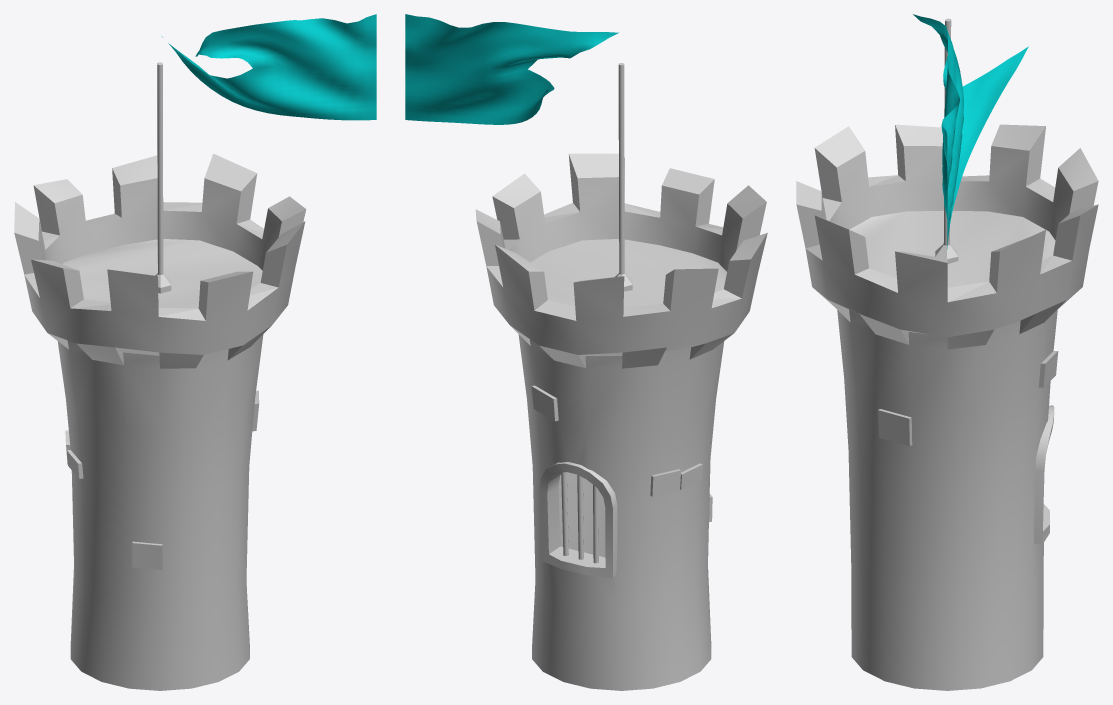
Rendered from Castle.FBX.
3 renders of one model, left to right at view 1: azimuth 30°, elevation 25°; view 2: azimuth 150°, elevation 25°; view 3: azimuth 270°, elevation 25°, orthographic. The views are drawn at different scales.
Visible parts, largest first — view 1: Castle_Main, Castle_Flag, Castle_FlagPole, Castle_Protruding_Bricks; view 2: Castle_Main, Castle_Flag, Castle_Window, Castle_Protruding_Bricks, Castle_FlagPole; view 3: Castle_Main, Castle_Flag, Castle_Window, Castle_Protruding_Bricks, Castle_FlagPole.
Boxes of the visible parts, box(x1,y1,x2,y2) form: Castle_Main: box(14, 153, 306, 690); Castle_Flag: box(161, 14, 376, 120); Castle_FlagPole: box(155, 62, 171, 293); Castle_Protruding_Bricks: box(65, 390, 259, 569); Castle_Main: box(475, 153, 767, 690); Castle_Flag: box(405, 14, 618, 124); Castle_Window: box(539, 462, 617, 577); Castle_Protruding_Bricks: box(531, 385, 712, 521); Castle_FlagPole: box(615, 63, 632, 291); Castle_Main: box(796, 124, 1098, 690); Castle_Flag: box(913, 14, 1028, 249); Castle_Window: box(1034, 405, 1054, 544); Castle_Protruding_Bricks: box(877, 351, 1058, 445); Castle_FlagPole: box(935, 18, 958, 263).
Bounding box in the file's own units: 173 × 290 × 122.
